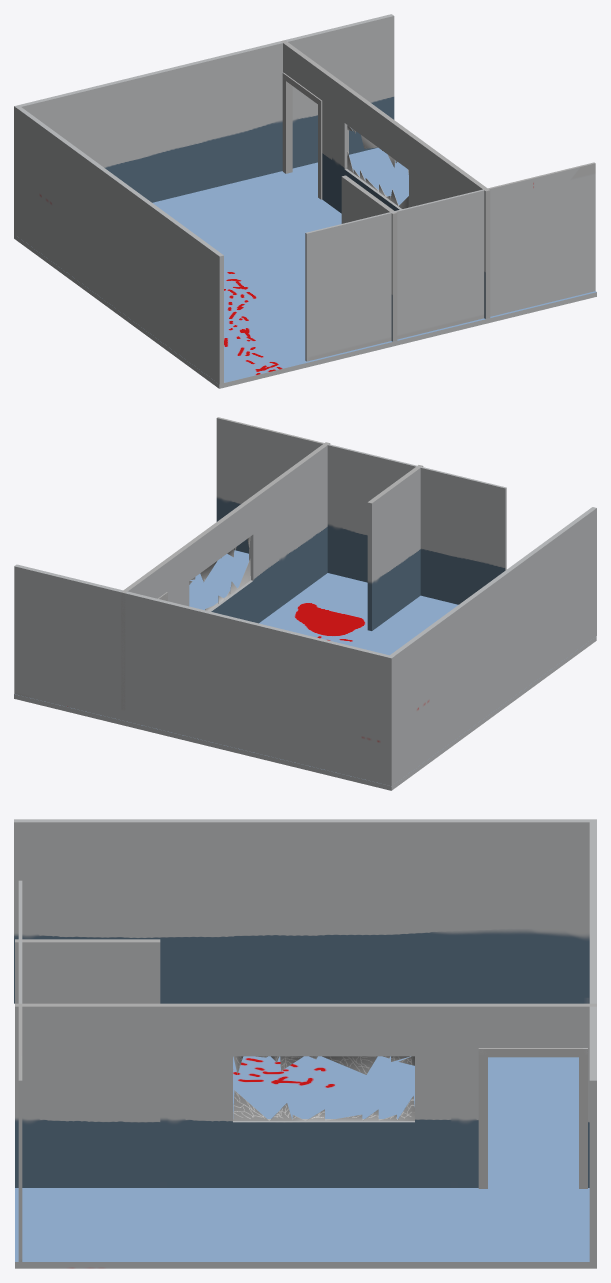
Rendered from Surgical_ROOM.fbx.
3 views of the same model, one above another, from view 1: azimuth 30°, elevation 25°; view 2: azimuth 150°, elevation 25°; view 3: azimuth 270°, elevation 25° (orthographic). The views are drawn at different scales.
Parts seen in each view (by area): view 1: Surgical_Room2; view 2: Surgical_Room2; view 3: Surgical_Room2.
Part boxes in pixels (left/top/right/bottom): Surgical_Room2: left=14, top=14, right=596, bottom=388; Surgical_Room2: left=14, top=417, right=596, bottom=790; Surgical_Room2: left=14, top=819, right=596, bottom=1268.
Size of the model in its own units: 8.5 by 2.85 by 8.01.
Materials: 1 (1 with a texture image).
